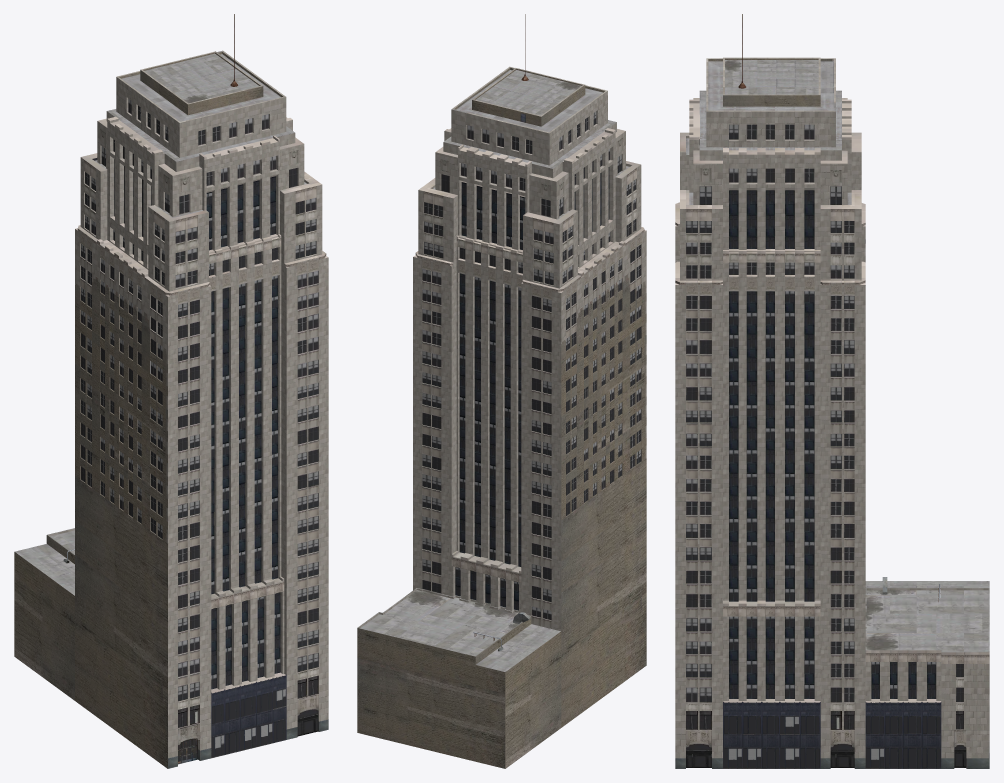
File: rand.glb
3 renders of one model, left to right at view 1: azimuth 30°, elevation 25°; view 2: azimuth 150°, elevation 25°; view 3: azimuth 270°, elevation 25°, orthographic. The views are drawn at different scales.
Parts seen in each view (by area): view 1: skfb_offset; view 2: skfb_offset; view 3: skfb_offset.
Part boxes in pixels (left/top/right/bottom): skfb_offset: left=14, top=14, right=328, bottom=768; skfb_offset: left=357, top=14, right=646, bottom=768; skfb_offset: left=675, top=14, right=989, bottom=768.
Size of the model in its own units: 2601 by 10932 by 4300.
Materials: 1 (1 with a texture image).
